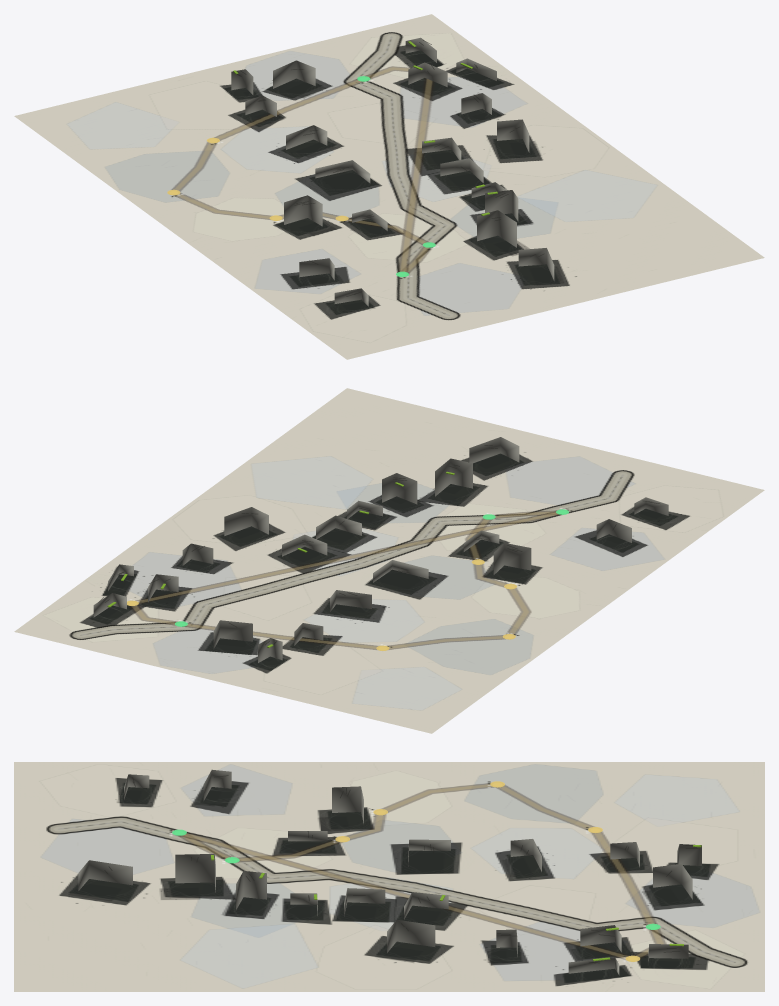
The model's file is wizard-nos-screenprint-district-v1.glb.
3 renders of one model, top to bottom at view 1: azimuth 30°, elevation 25°; view 2: azimuth 150°, elevation 25°; view 3: azimuth 270°, elevation 25°, orthographic. The views are drawn at different scales.
Visible parts, largest first — view 1: Wizard of NOS Screenprint District; view 2: Wizard of NOS Screenprint District; view 3: Wizard of NOS Screenprint District.
Part boxes in pixels (bbox=[...]): Wizard of NOS Screenprint District: bbox=[14, 14, 764, 359]; Wizard of NOS Screenprint District: bbox=[14, 388, 764, 733]; Wizard of NOS Screenprint District: bbox=[14, 762, 764, 991].
Bounding box in the file's own units: 2200 × 132 × 3036.
Materials: 71 (1 with a texture image).
